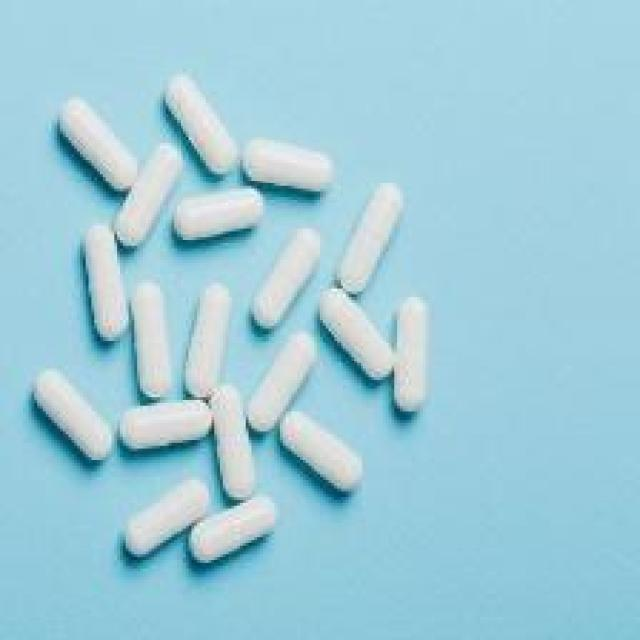Medicine: (2, 37, 491, 591)
